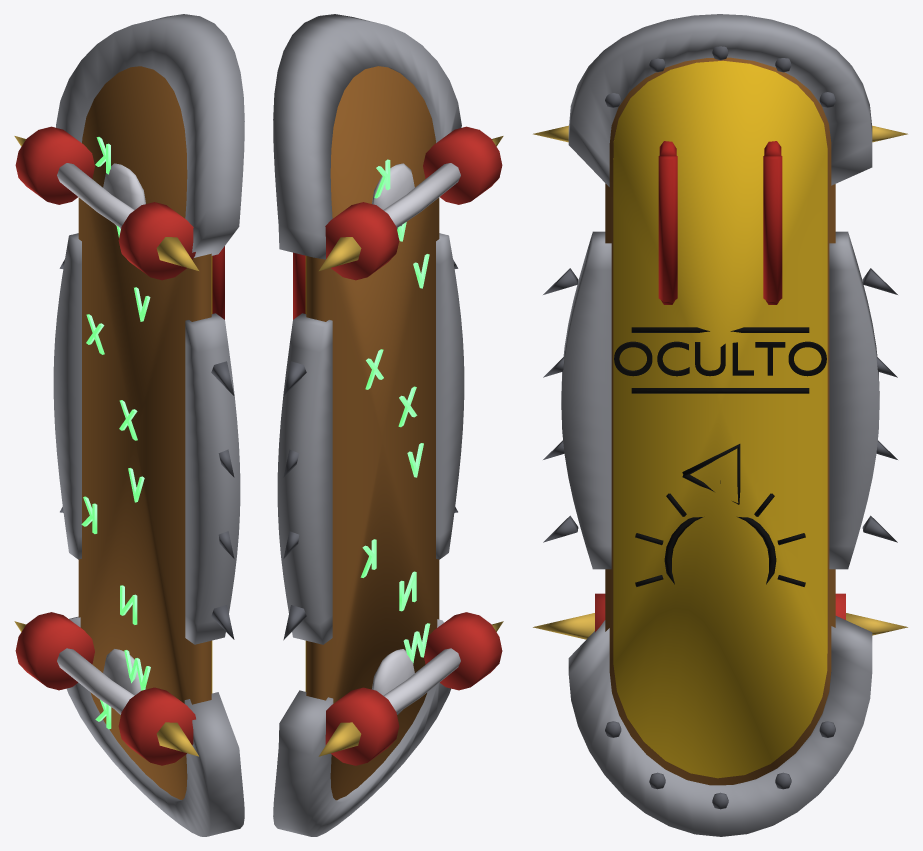
File: xande_skate.glb
The picture shows the model from 3 angles, left to right: view 1: azimuth 30°, elevation 25°; view 2: azimuth 150°, elevation 25°; view 3: azimuth 270°, elevation 25°; orthographic projection.
Parts seen in each view (by area): view 1: P_skate; view 2: P_skate; view 3: P_skate.
Boxes of the visible parts, x1=… form: P_skate: x1=14, y1=14, x2=244, y2=836; P_skate: x1=273, y1=14, x2=503, y2=836; P_skate: x1=533, y1=14, x2=907, y2=836.
Bounding box in the file's own units: 0.1534 × 0.85 × 0.36.
